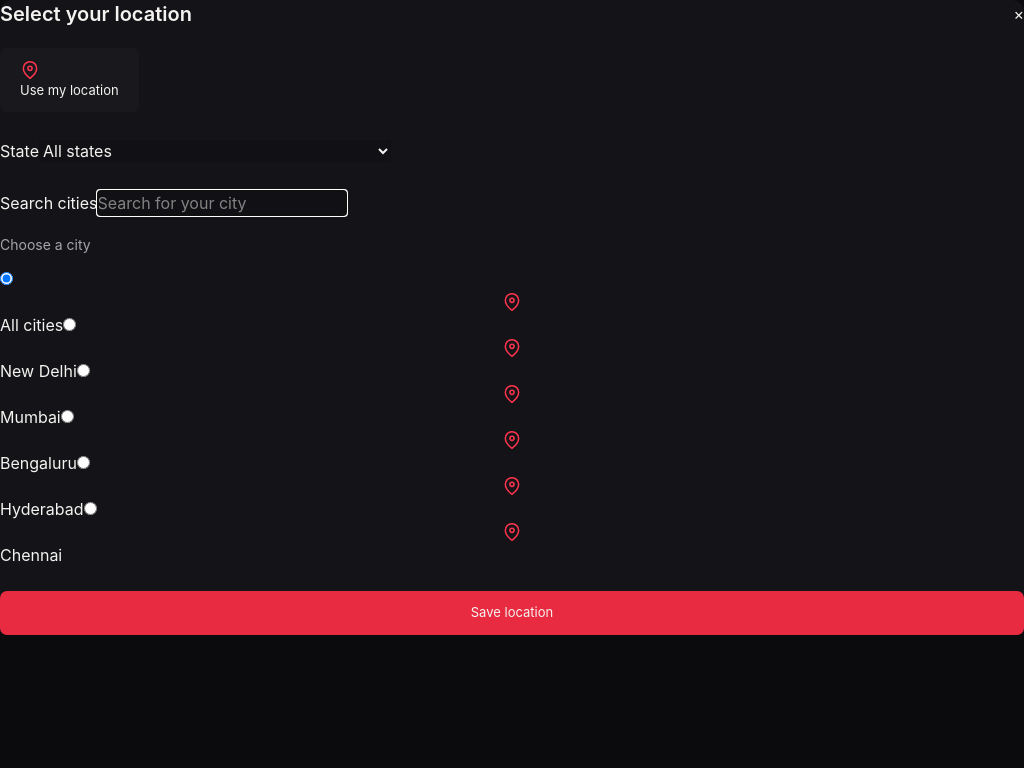
Test: keeps the initial city list to five popular choices and reveals other supported cities by search
Expected: the radio button labelled "Chennai" is shown, [84, 502, 96, 514]
Expected: the number of radio buttons is 6, [0, 272, 13, 284]; [63, 318, 76, 330]; [77, 364, 90, 376]; [61, 410, 74, 422]; [77, 456, 90, 468]; [84, 502, 96, 514]
Type "Muzaffarnagar" into the search field at (222, 202), box [98, 190, 346, 214]
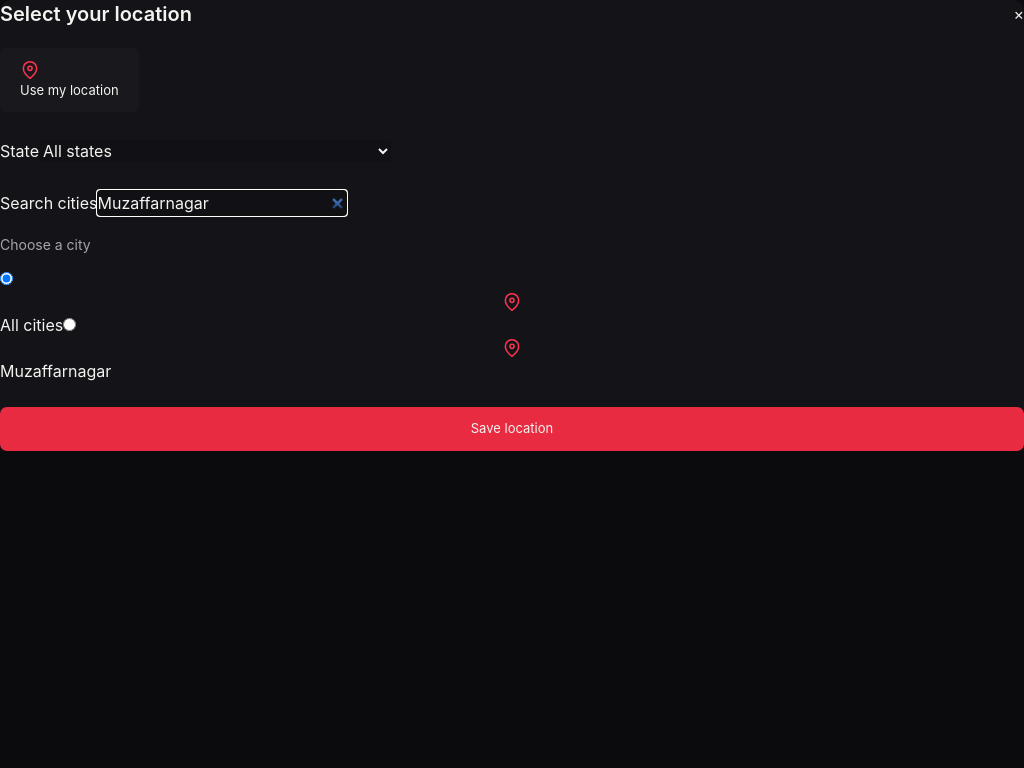
Expected: the radio button labelled "Muzaffarnagar" is shown, [63, 318, 76, 330]
Expected: the label "Mumbai" is gone
